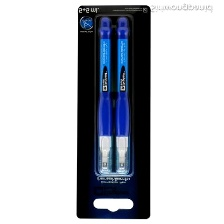book: (73, 3, 152, 222)
correction_fluid: (112, 16, 132, 175), (95, 16, 114, 175)
